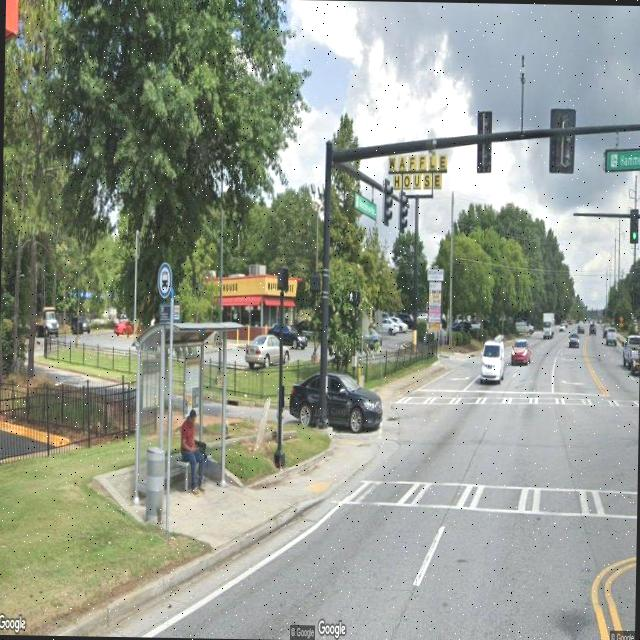seating: (174, 444, 207, 494)
shelter: (130, 320, 242, 504)
trash_can: (144, 446, 164, 520)
